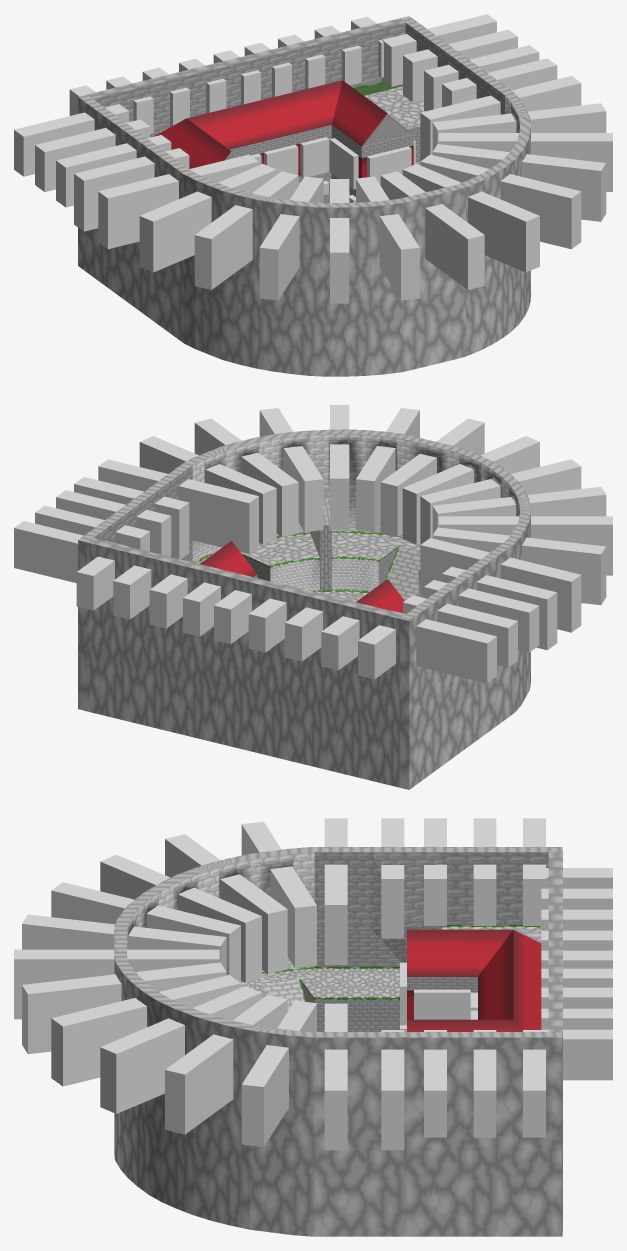
Rendered from theater.glb.
3 renders of one model, top to bottom at view 1: azimuth 30°, elevation 25°; view 2: azimuth 150°, elevation 25°; view 3: azimuth 270°, elevation 25°, orthographic. The views are drawn at different scales.
Visible parts, largest first — view 1: WindowCutouts, Temple; view 2: WindowCutouts, Temple; view 3: Temple, WindowCutouts.
Boxes of the visible parts, box(x1,y1,x2,y2) form: WindowCutouts: box(14, 14, 612, 303); Temple: box(78, 16, 530, 376); WindowCutouts: box(14, 405, 612, 683); Temple: box(78, 429, 530, 789); Temple: box(114, 847, 562, 1236); WindowCutouts: box(14, 818, 612, 1150).
Size of the model in its own units: 9.09 by 3.11 by 8.45.
1 material, 1 textured.
